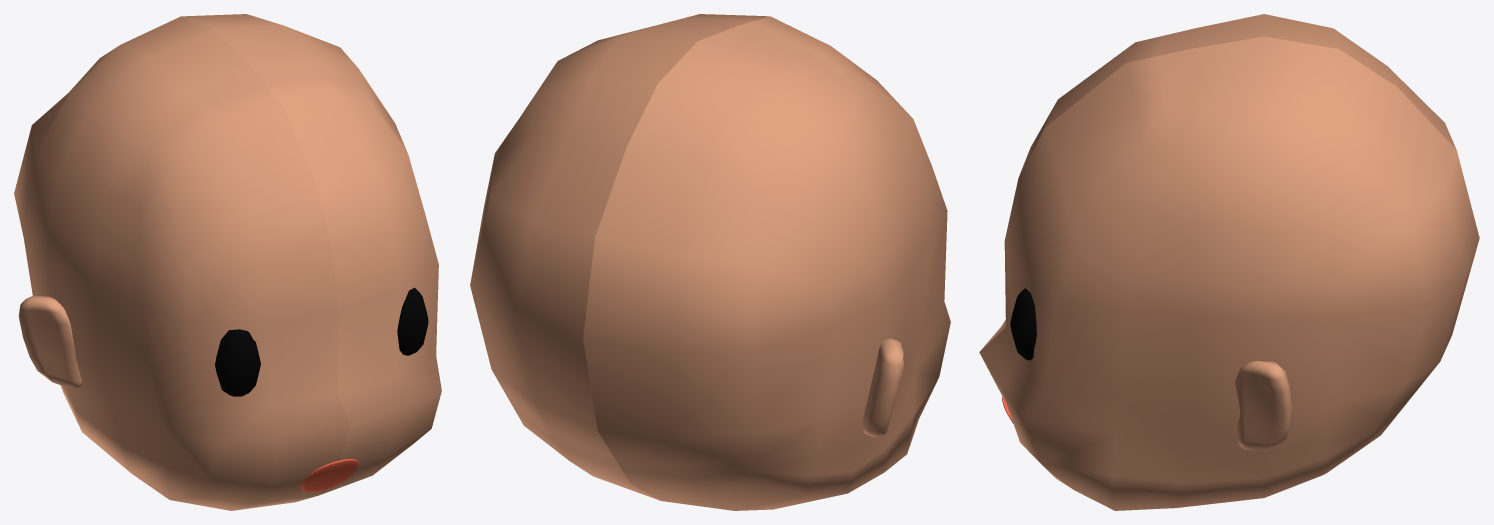
File: Umatchii_Normal_Mouth.obj
3 views of the same model, side by side, from view 1: azimuth 30°, elevation 25°; view 2: azimuth 150°, elevation 25°; view 3: azimuth 270°, elevation 25° (orthographic). The views are drawn at different scales.
Visible parts, largest first — view 1: Combined; view 2: Combined; view 3: Combined.
Part boxes in pixels (x1,y1,x2,y2): Combined: (14, 14, 441, 510); Combined: (470, 14, 950, 510); Combined: (979, 14, 1479, 510).
Size of the model in its own units: 9.37 by 9.97 by 10.28.
